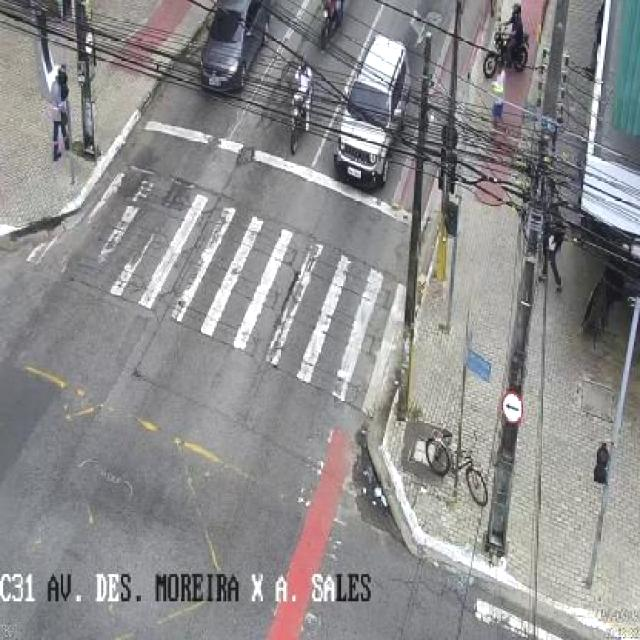Car: (336, 28, 436, 210), (188, 0, 261, 104)
Cycle: (271, 38, 316, 162), (481, 3, 540, 75), (316, 0, 348, 46)
